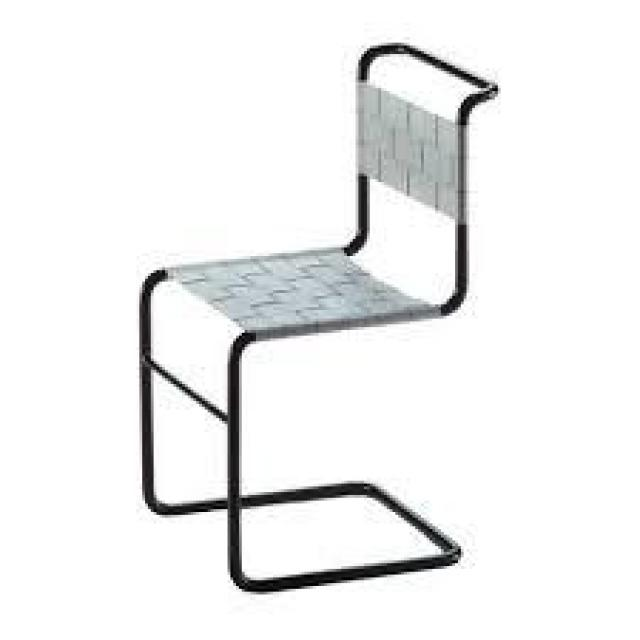chair: (94, 40, 503, 603)
